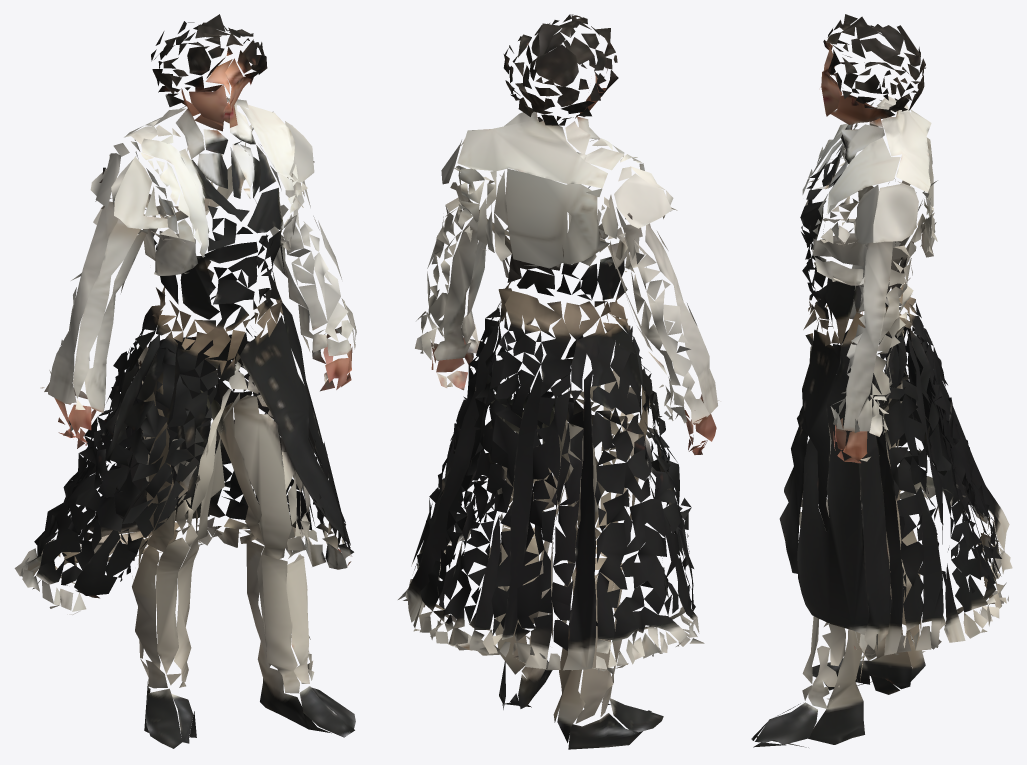
The model's file is char_actor_m.glb.
3 renders of one model, left to right at view 1: azimuth 30°, elevation 25°; view 2: azimuth 150°, elevation 25°; view 3: azimuth 270°, elevation 25°, orthographic. The views are drawn at different scales.
Parts seen in each view (by area): view 1: geometry_0; view 2: geometry_0; view 3: geometry_0.
Boxes of the visible parts, x1=… form: geometry_0: x1=14, y1=14, x2=356, y2=748; geometry_0: x1=398, y1=14, x2=720, y2=749; geometry_0: x1=751, y1=14, x2=1012, y2=747.
Bounding box in the file's own units: 0.8357 × 1.8 × 0.624.
1 material, 1 textured.
